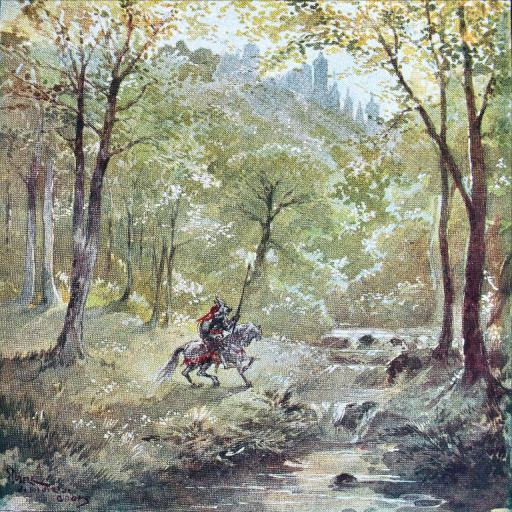horse: (161, 320, 264, 386)
